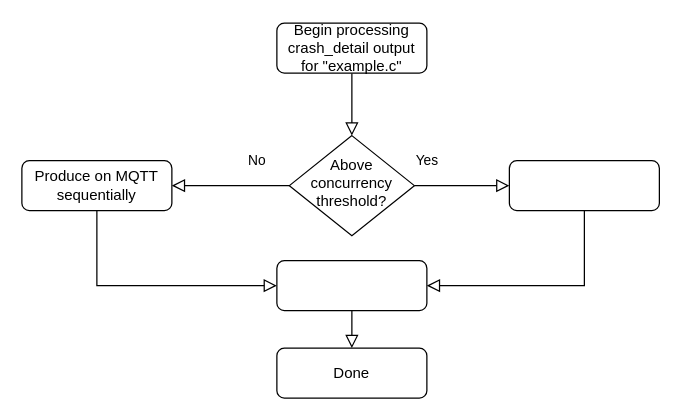
Image size: 681x420. Some labels were removed from this diagram. The centre of each missing label's shape, as x and y in pixels:
"Create or Append CSV sequentially" goes at (x=351, y=285).
"Produce on MQTT concurrently" goes at (x=583, y=185).
